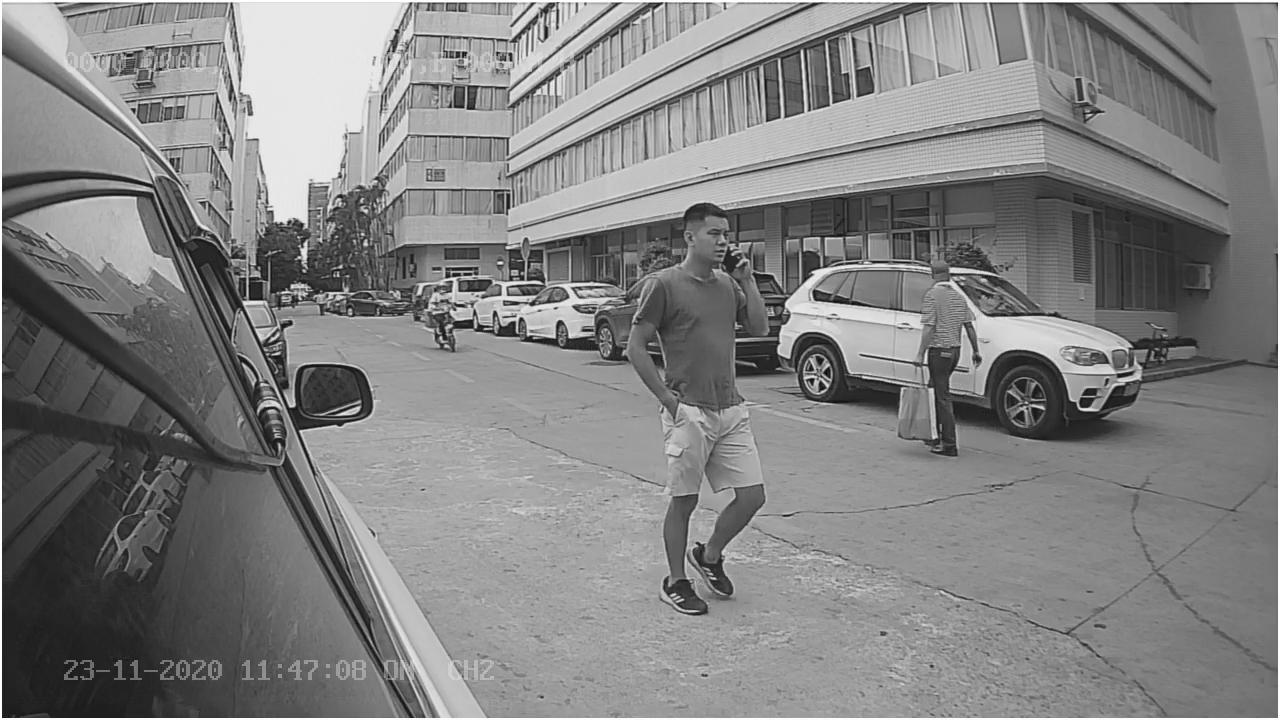person: (617, 173, 761, 613), (889, 253, 984, 455)
